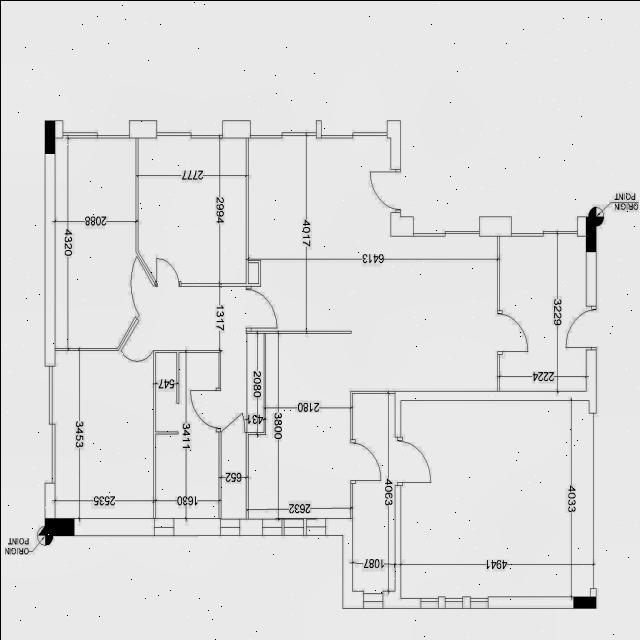Column: (44, 517, 74, 535), (584, 216, 596, 252), (44, 120, 54, 154), (572, 596, 596, 608)
Door: (116, 315, 155, 369), (124, 254, 153, 316), (394, 436, 430, 485), (244, 286, 276, 330), (565, 305, 595, 349), (496, 310, 526, 354), (350, 438, 380, 482), (190, 387, 220, 431), (370, 169, 400, 211), (156, 258, 180, 286), (220, 412, 244, 432)
Sliding Door: (412, 216, 478, 236), (511, 216, 576, 236), (320, 120, 386, 138), (249, 120, 315, 138), (156, 120, 222, 138), (62, 120, 128, 138), (44, 364, 54, 482)
Window: (362, 590, 382, 608), (153, 517, 173, 535), (305, 518, 325, 534), (283, 518, 303, 534), (261, 518, 281, 534), (220, 518, 240, 534), (470, 596, 488, 608), (444, 596, 462, 608), (420, 596, 438, 608)
